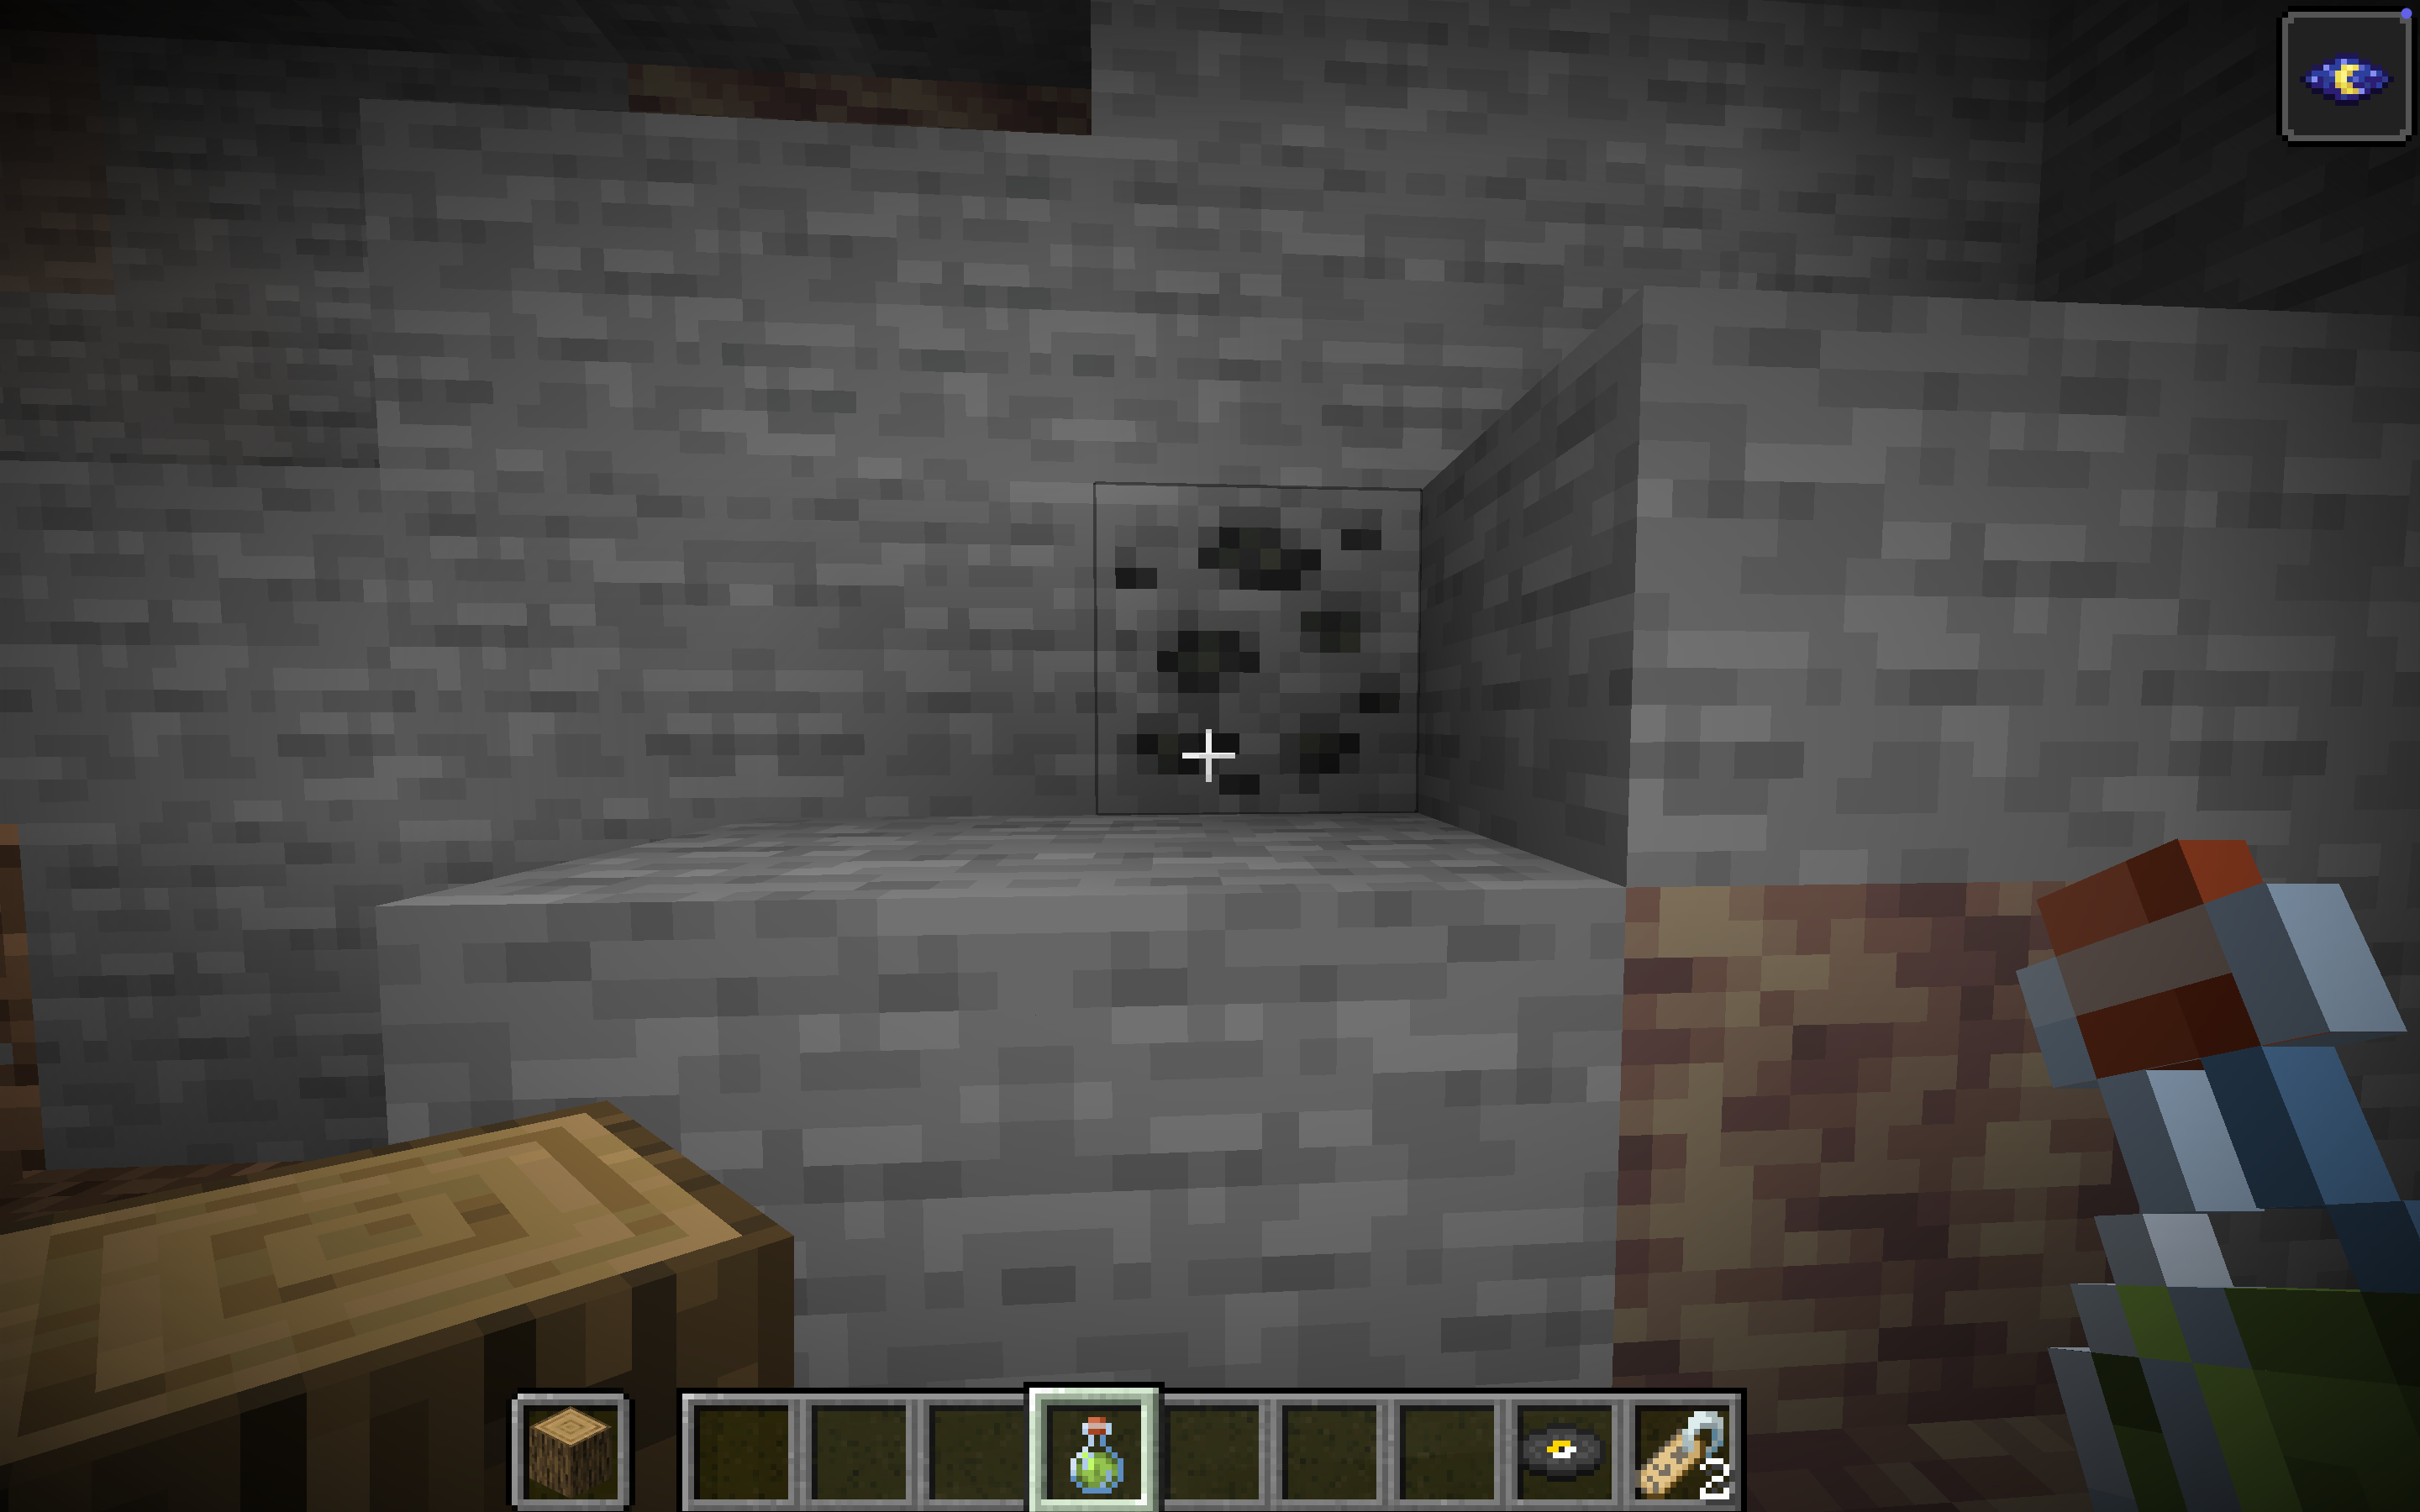coal: (620, 218, 2000, 1266)
